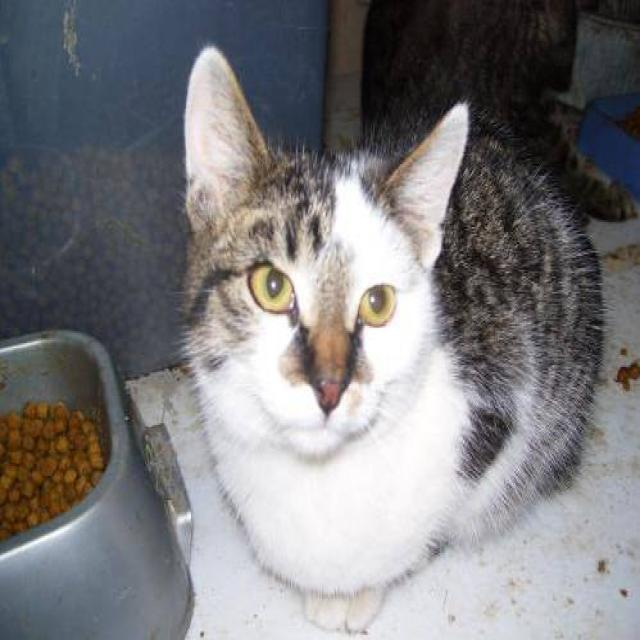cat: (175, 36, 610, 636)
